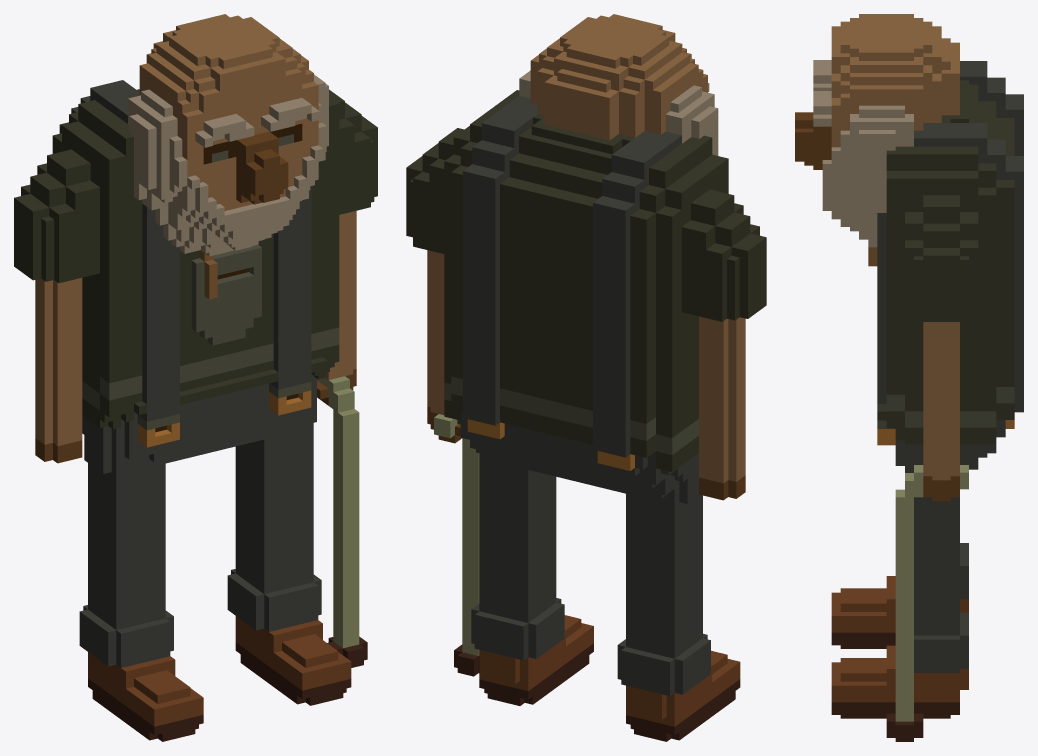
File: old_man02.obj
The picture shows the model from 3 angles, left to right: view 1: azimuth 30°, elevation 25°; view 2: azimuth 150°, elevation 25°; view 3: azimuth 270°, elevation 25°; orthographic projection. The views are drawn at different scales.
Size of the model in its own units: 42 by 77 by 25.
Materials: 1 (1 with a texture image).
